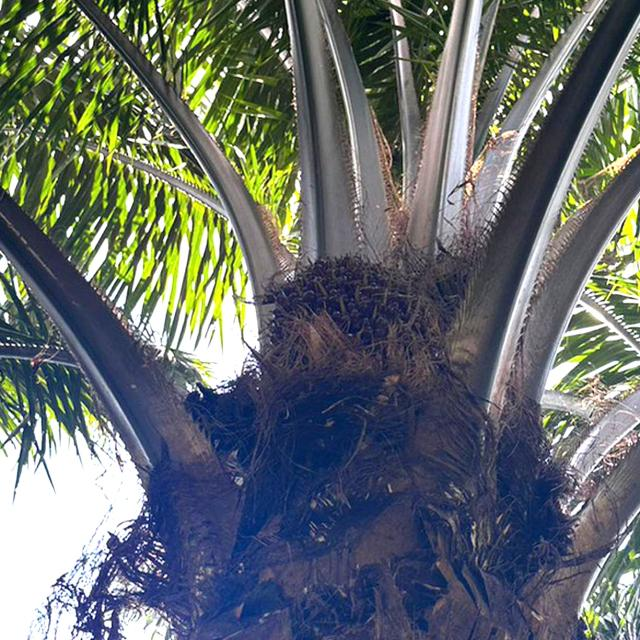almost: (250, 246, 440, 410)
